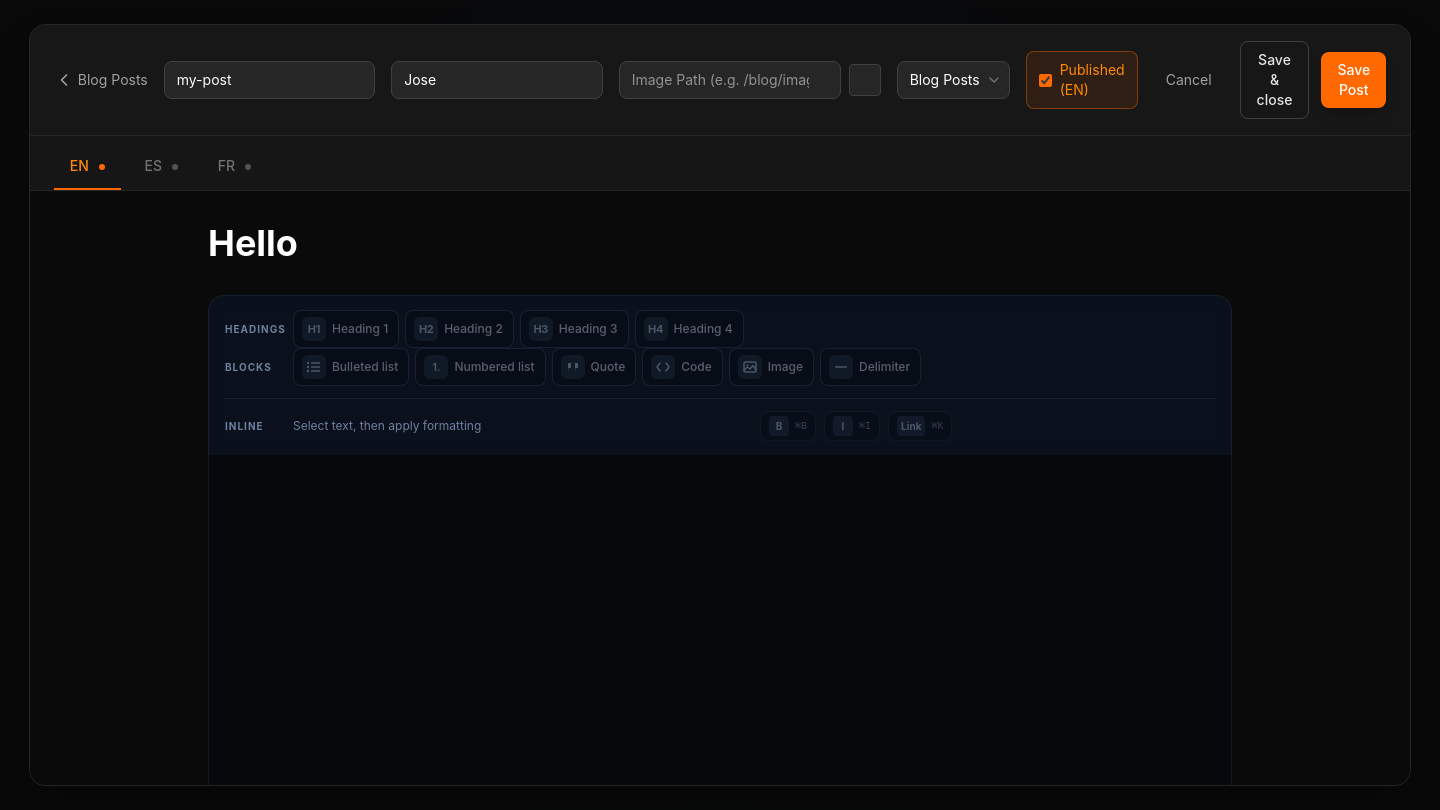
Test: AdminEditor navigation › keeps the editor open on a failed save
Click the button "Save & close" at (1274,80), box x1=1240 y1=41 x2=1309 y2=119
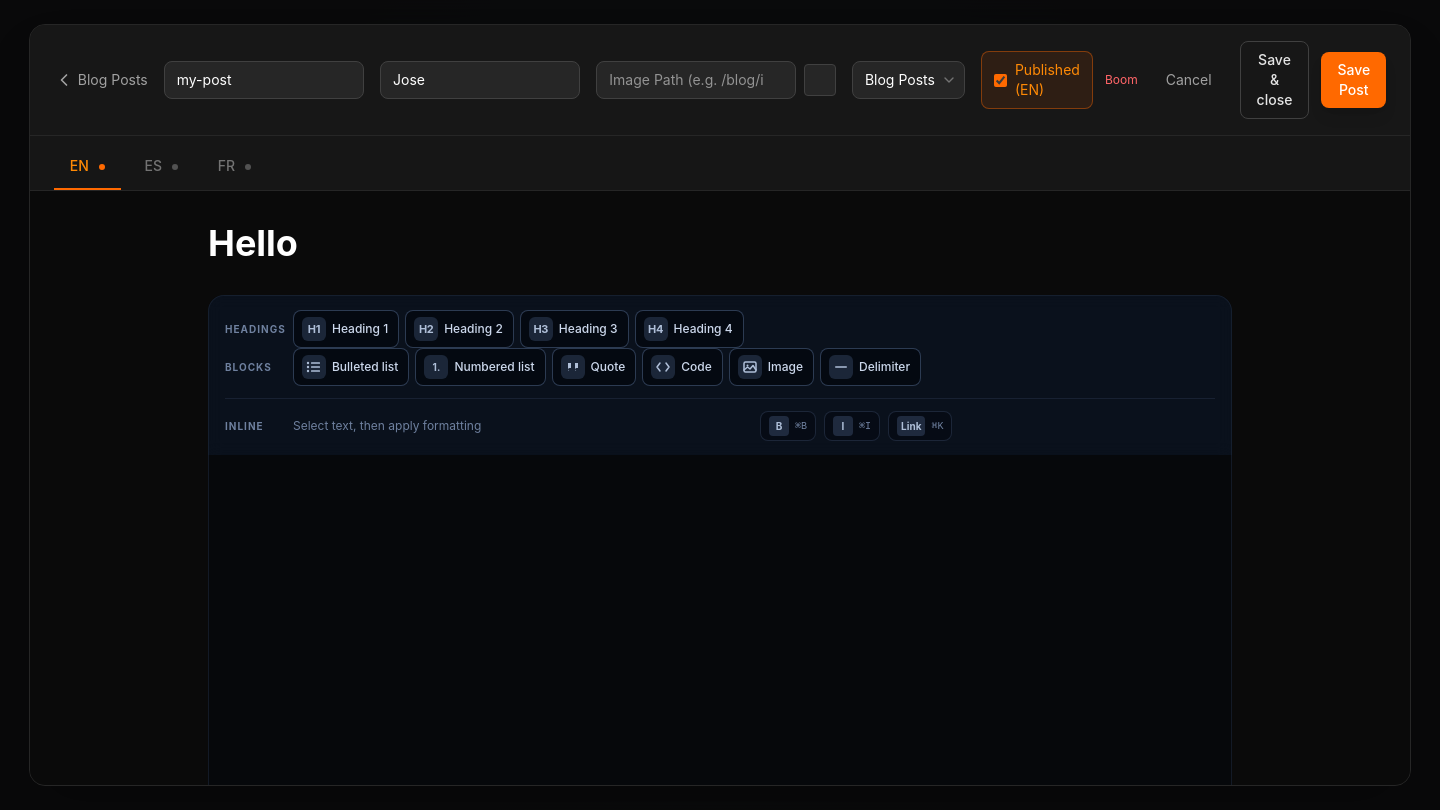
Check: the text "Boom" is shown, box x1=1105 y1=72 x2=1138 y2=88
